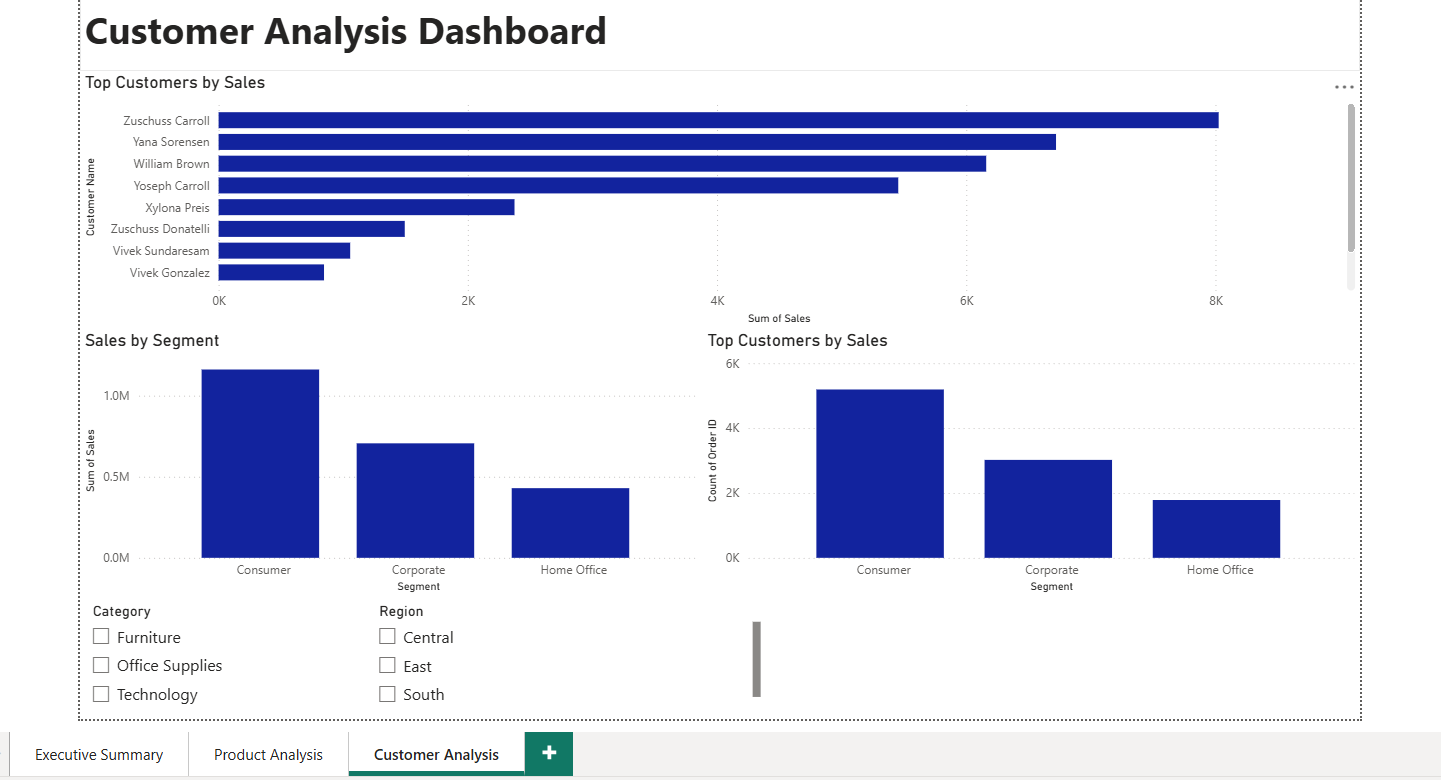

Layout of this report page (visuals, bound fields, positions):
{"tool":"powerbi","page":{"name":"Customer Analysis","canvas":[1280,720],"ordinal":2},"visuals":[{"type":"clusteredBarChart","title":"Top Customers by Sales","fields":{"Category":["Sample - Superstore csv.Customer Name"],"Y":["Sum(Sample - Superstore csv.Sales)"]},"box":[0,72.7,1280.3,258],"z":0},{"type":"clusteredColumnChart","title":"Sales by Segment","fields":{"Category":["Sample - Superstore csv.Segment"],"Y":["Sum(Sample - Superstore csv.Sales)"]},"box":[0,330.7,623,267.6],"z":1},{"type":"slicer","fields":{"Values":["Sample - Superstore csv.Region"]},"box":[286.8,598.3,399.3,122.1],"z":3},{"type":"slicer","fields":{"Values":["Sample - Superstore csv.Category"]},"box":[0,598.3,223.7,122.1],"z":4},{"type":"clusteredColumnChart","title":"Top Customers by Sales","fields":{"Category":["Sample - Superstore csv.Segment"],"Y":["CountNonNull(Sample - Superstore csv.Order ID)"]},"box":[623,330.7,657.3,267.6],"z":5},{"type":"textbox","box":[0,0,1280.3,72.7],"z":6}]}

Visuals, with their boxes on the page's 1280x720 design canvas (x1, y1, x2, y2). These are canvas units, not pixel positions in the 1441x780 screenshot, which may show the page scaled, cropped or inside an application window:
"Top Customers by Sales" clusteredBarChart: x1=0, y1=73, x2=1280, y2=331
"Sales by Segment" clusteredColumnChart: x1=0, y1=331, x2=623, y2=598
slicer - Sample - Superstore csv.Region: x1=287, y1=598, x2=686, y2=720
slicer - Sample - Superstore csv.Category: x1=0, y1=598, x2=224, y2=720
"Top Customers by Sales" clusteredColumnChart: x1=623, y1=331, x2=1280, y2=598
textbox: x1=0, y1=0, x2=1280, y2=73
